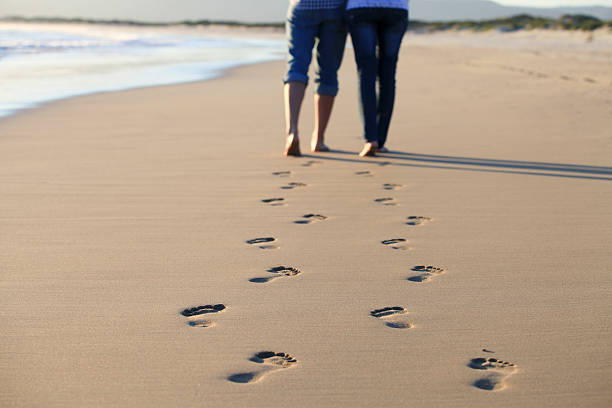human_footprint: (228, 351, 296, 383), (468, 357, 516, 390), (180, 304, 225, 327), (370, 306, 412, 328), (249, 266, 300, 282), (407, 265, 444, 282), (246, 237, 278, 249), (294, 213, 327, 223), (381, 238, 409, 249), (406, 216, 431, 225), (261, 197, 284, 205), (374, 197, 397, 205), (281, 182, 306, 189), (301, 160, 321, 166), (383, 183, 403, 189), (272, 171, 291, 177), (354, 170, 372, 176)
